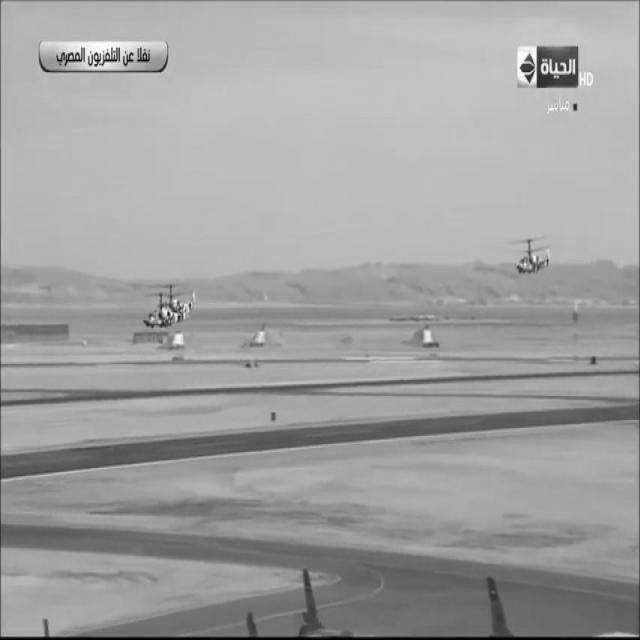helikopter: (126, 265, 207, 336), (499, 223, 562, 293)
